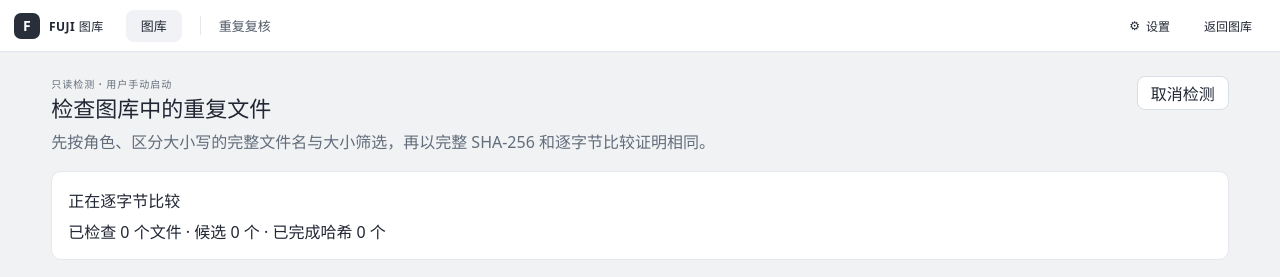
Test: DuplicateReviewView › shows cancellation progress and applies the returned terminal status
The image size is (1280, 277).
Click the button "取消检测" at point(1183, 93), box [1137,76,1229,110]
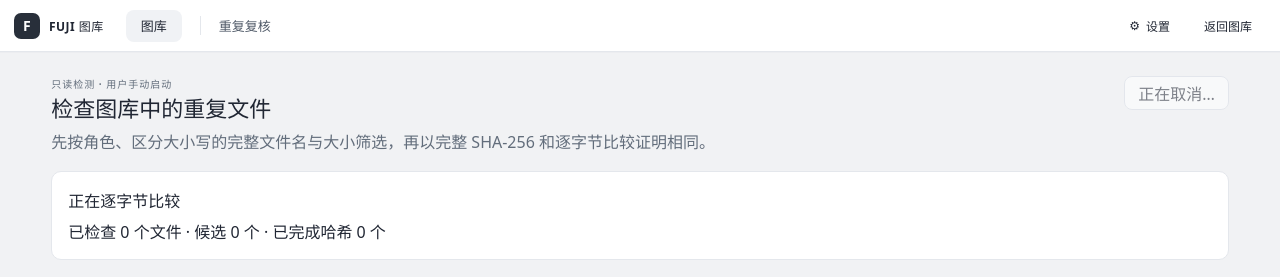
Now the button "正在取消…" is disabled, box [1124,76,1229,110]
